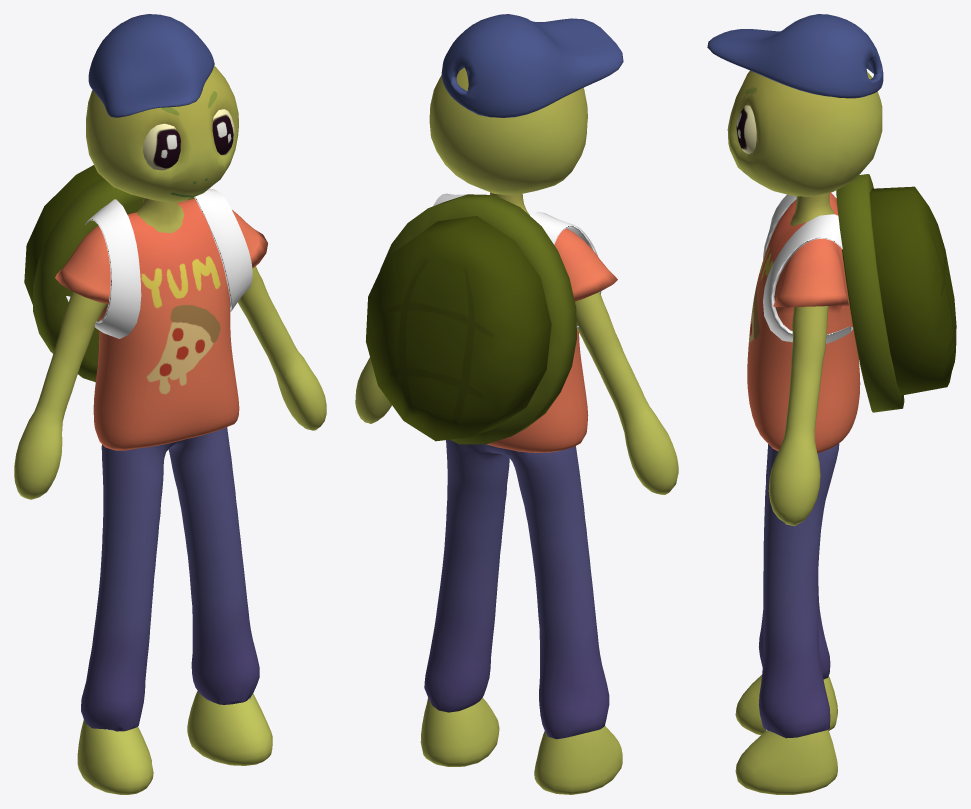
The model's file is TurtleKidRETOPO.obj.
3 renders of one model, left to right at view 1: azimuth 30°, elevation 25°; view 2: azimuth 150°, elevation 25°; view 3: azimuth 270°, elevation 25°, orthographic. The views are drawn at different scales.
Visible parts, largest first — view 1: Body, Tee, Head, Cap, Feet, PackStraps, PackpackRim, Backpck, Eyes; view 2: Body, Backpck, Cap, Head, PackpackRim, Feet, Tee, PackStraps; view 3: Body, Tee, Head, Backpck, Cap, PackpackRim, Feet, PackStraps, Eyes.
Boxes of the visible parts, bbox=[...] form: Body: bbox=[14, 198, 326, 731]; Tee: bbox=[55, 198, 267, 450]; Head: bbox=[86, 66, 238, 202]; Cap: bbox=[88, 14, 214, 117]; Feet: bbox=[77, 691, 272, 794]; PackStraps: bbox=[66, 188, 252, 338]; PackpackRim: bbox=[33, 177, 194, 381]; Backpck: bbox=[24, 165, 101, 304]; Eyes: bbox=[143, 109, 234, 170]; Body: bbox=[355, 192, 678, 739]; Backpck: bbox=[365, 216, 551, 441]; Cap: bbox=[441, 14, 623, 117]; Head: bbox=[429, 67, 587, 195]; PackpackRim: bbox=[380, 194, 576, 444]; Feet: bbox=[420, 697, 622, 794]; Tee: bbox=[486, 228, 617, 452]; PackStraps: bbox=[433, 193, 601, 329]; Body: bbox=[758, 193, 839, 738]; Tee: bbox=[747, 192, 860, 453]; Head: bbox=[727, 70, 882, 196]; Backpck: bbox=[869, 186, 956, 395]; Cap: bbox=[707, 14, 883, 98]; PackpackRim: bbox=[836, 174, 904, 412]; Feet: bbox=[735, 675, 837, 794]; PackStraps: bbox=[763, 194, 853, 343]; Eyes: bbox=[736, 105, 756, 154].
Size of the model in its own units: 2.67 by 6.11 by 1.87.
9 materials, 8 textured.
